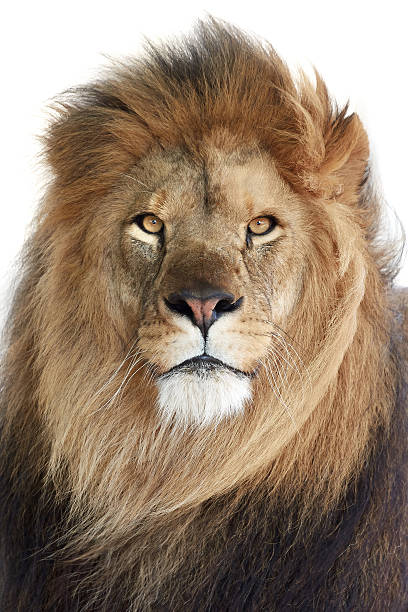lion: (9, 11, 400, 612)
